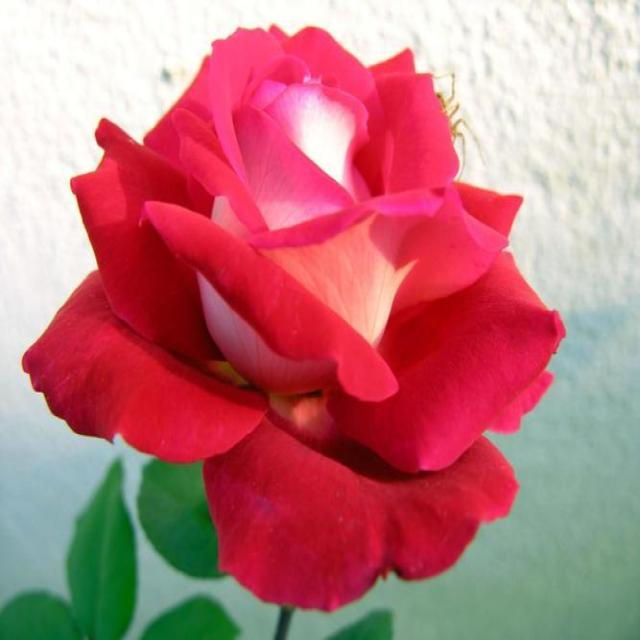rose: (23, 27, 584, 627)
